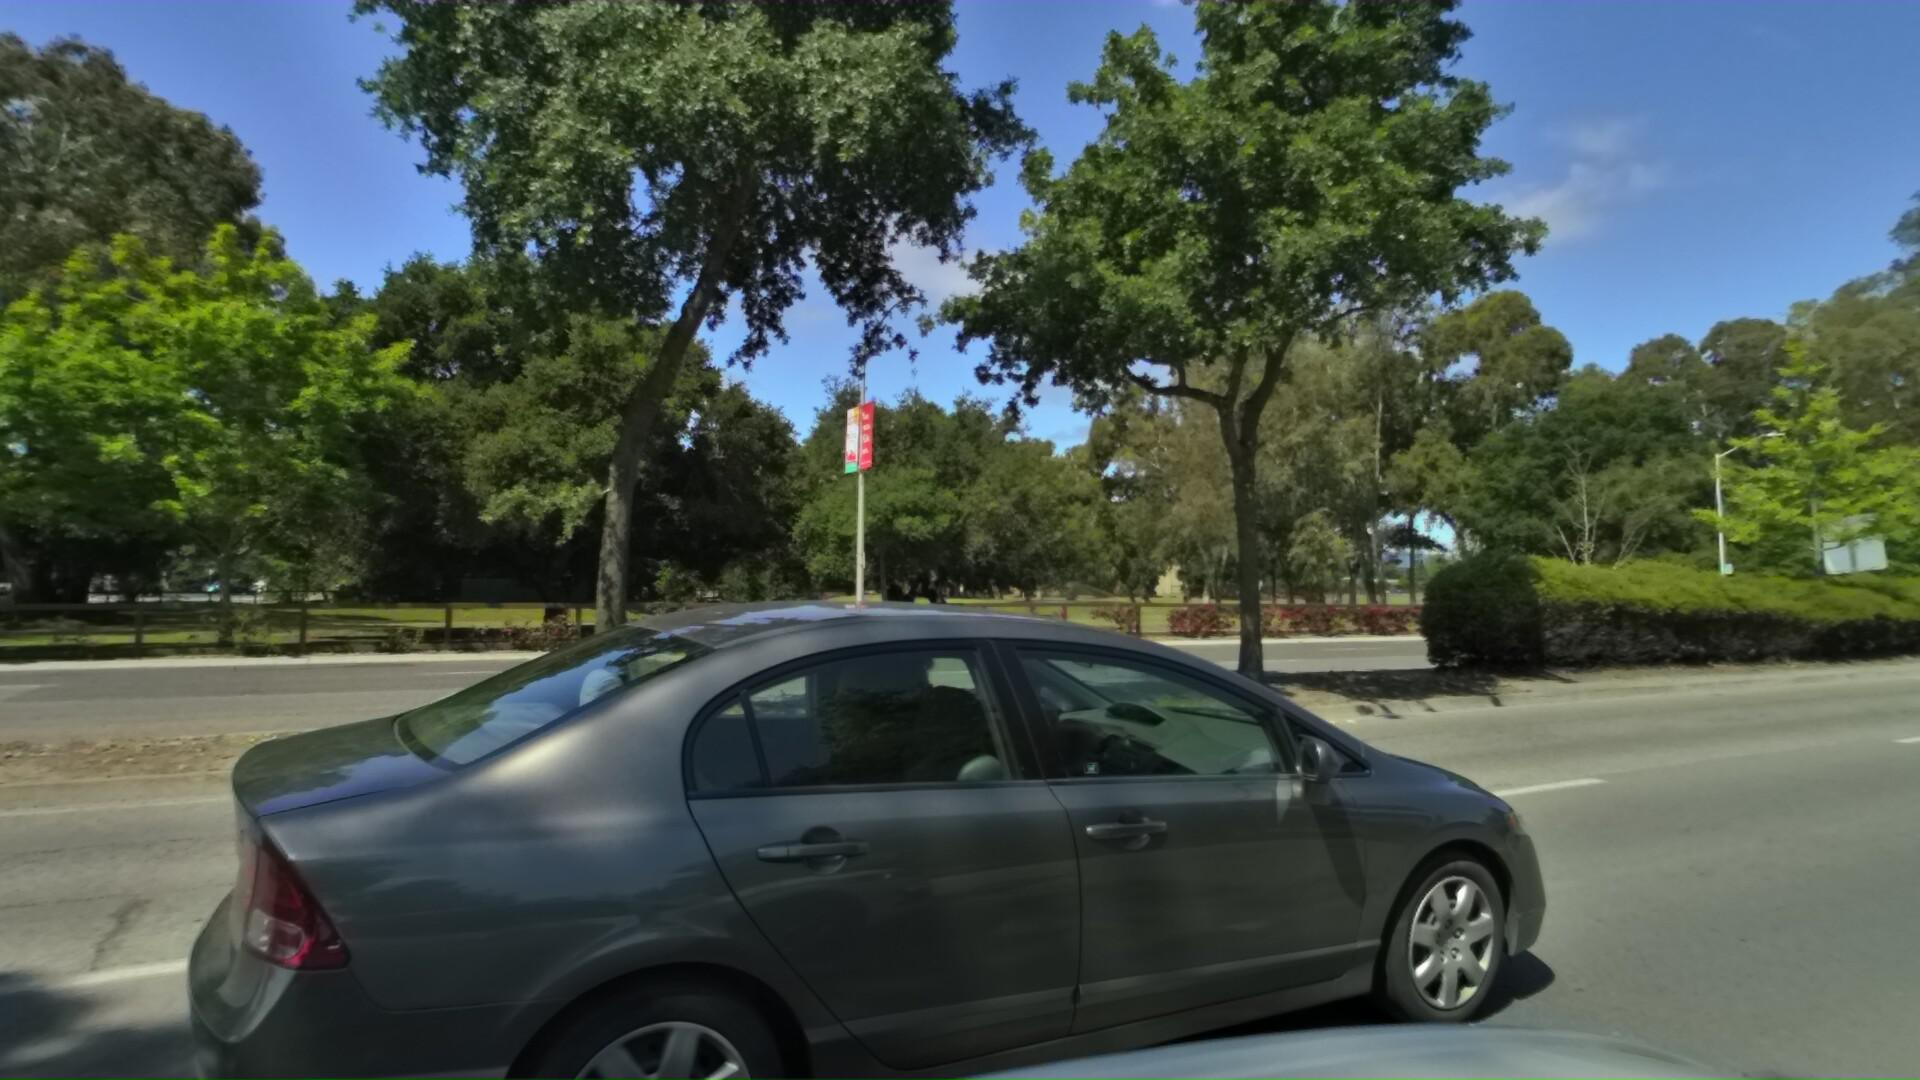car: (218, 556, 1648, 1080)
